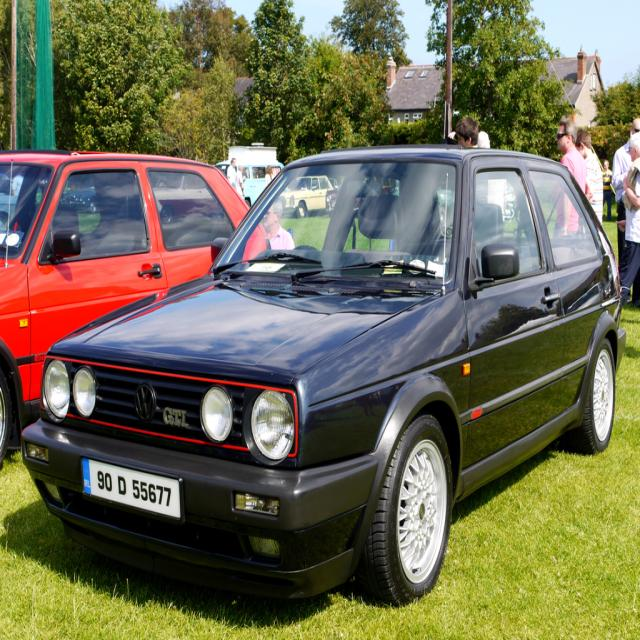car: (20, 136, 627, 602)
